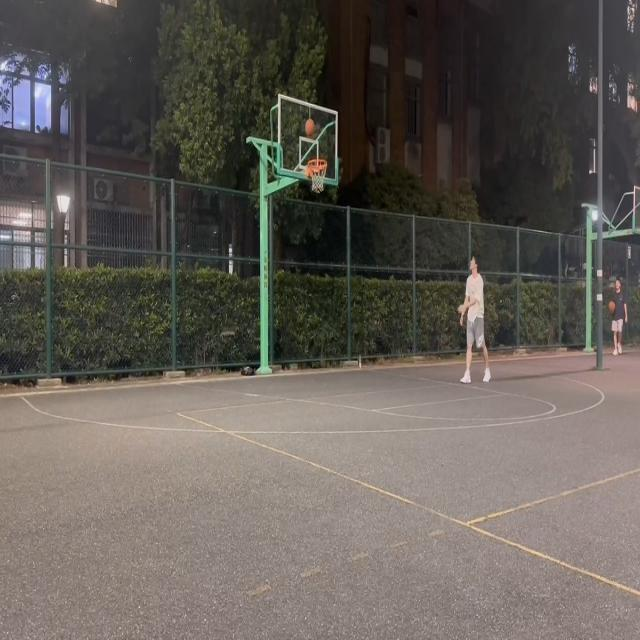basketball: (307, 158, 327, 194)
rim: (305, 119, 315, 137)
